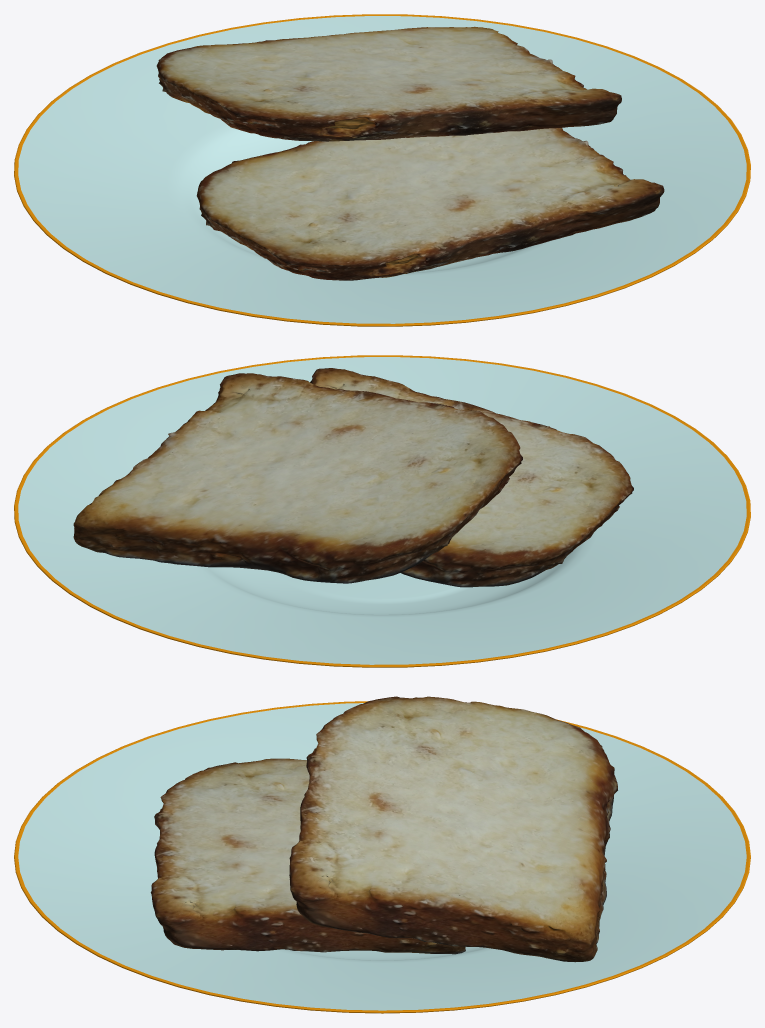
The model's file is sweetBread.glb.
The picture shows the model from 3 angles, top to bottom: view 1: azimuth 30°, elevation 25°; view 2: azimuth 150°, elevation 25°; view 3: azimuth 270°, elevation 25°; orthographic projection.
Parts seen in each view (by area): view 1: Soup plate, Bread, Bread.001; view 2: Soup plate, Bread.001, Bread; view 3: Soup plate, Bread.001, Bread.
Part boxes in pixels (x1=…): Soup plate: x1=14, y1=14, x2=750, y2=326; Bread: x1=196, y1=128, x2=664, y2=280; Bread.001: x1=156, y1=26, x2=621, y2=141; Soup plate: x1=14, y1=355, x2=750, y2=667; Bread.001: x1=73, y1=373, x2=522, y2=583; Bread: x1=310, y1=368, x2=633, y2=587; Soup plate: x1=14, y1=701, x2=750, y2=1013; Bread.001: x1=289, y1=696, x2=617, y2=962; Bread: x1=150, y1=758, x2=465, y2=954.
Bounding box in the file's own units: 0.2864 × 0.0598 × 0.2864.
4 materials, 2 textured.
